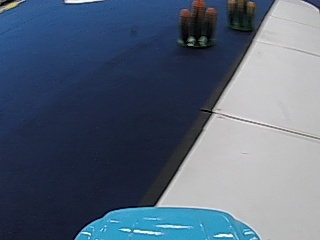corn: (177, 1, 217, 47), (226, 0, 256, 31)
